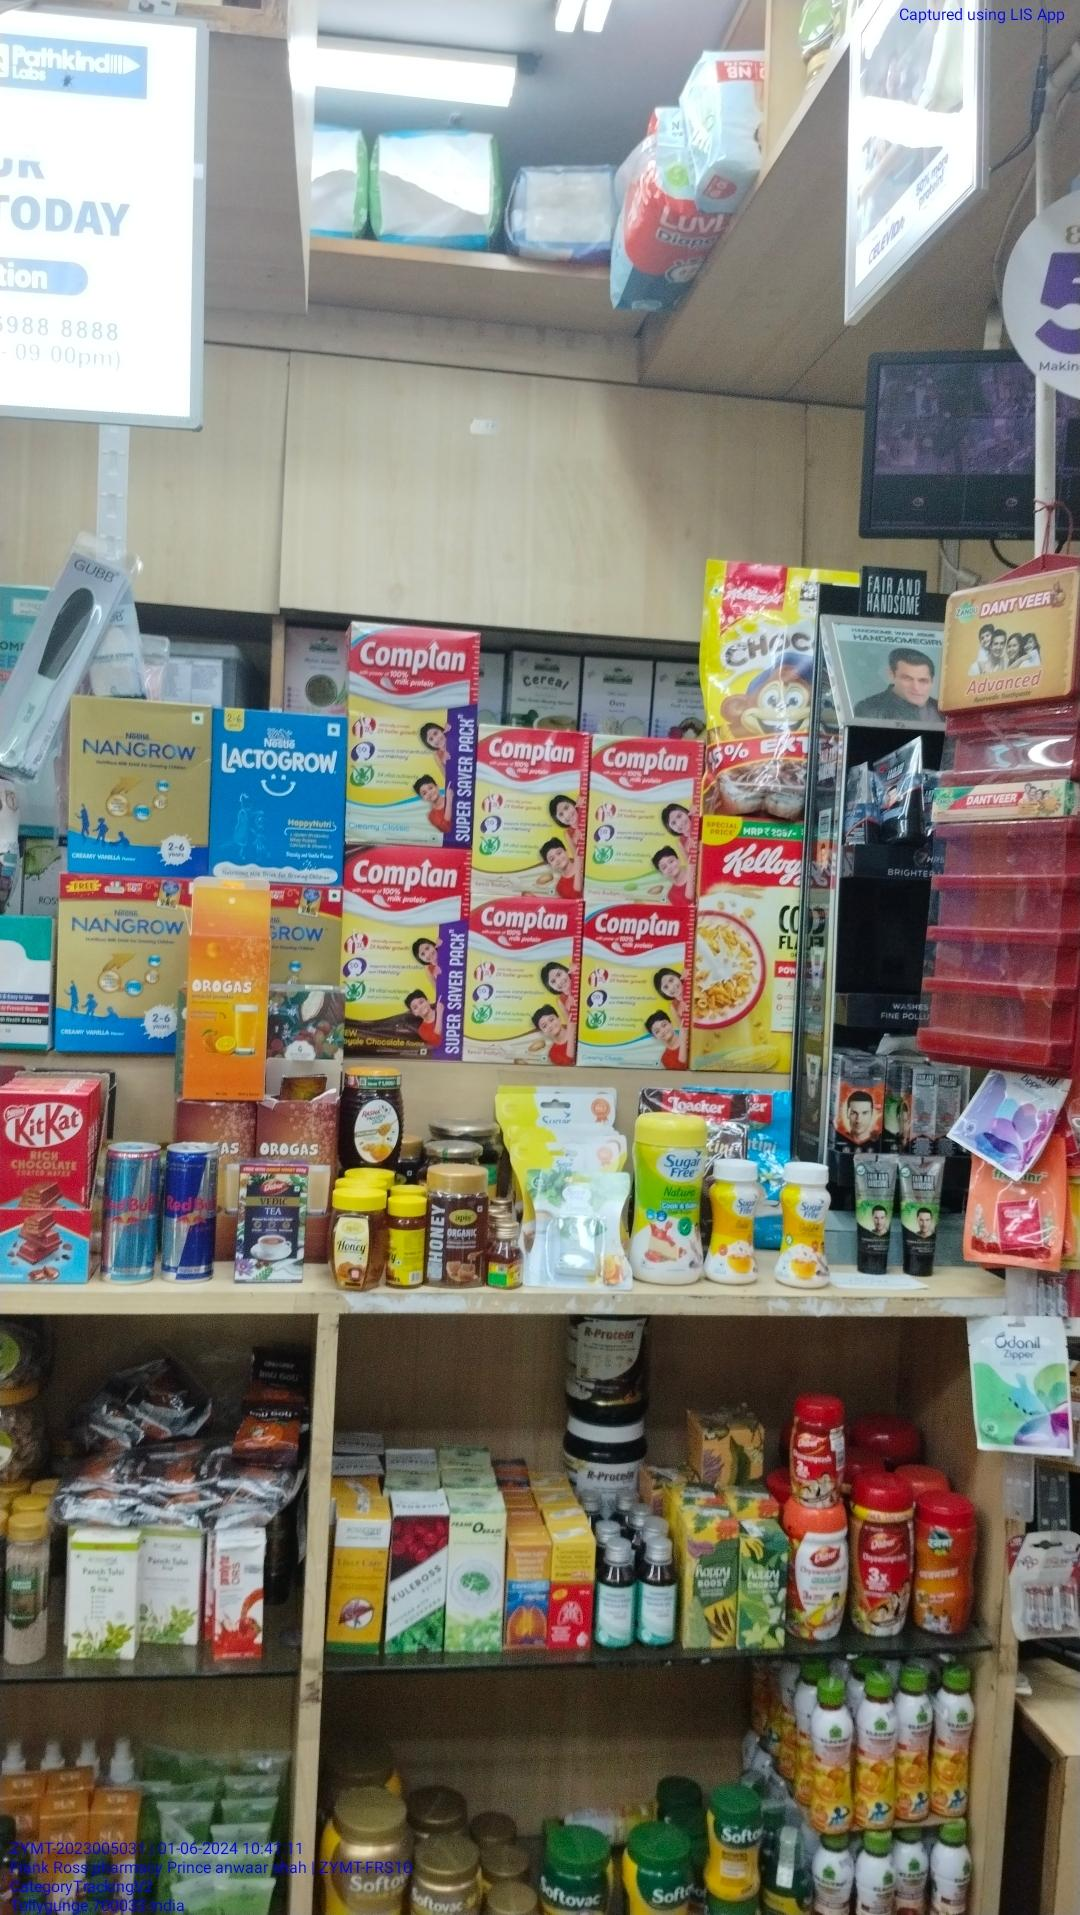COMPLAN_CHOCOLATE_1_KG_PACK: (345, 846, 460, 1057)
COMPLAN_CREAMY_CLASSIC_500_G_PACK: (587, 901, 687, 1067)
COMPLAN_KESAR_BADAM_500_GMS_PACK: (471, 898, 577, 1064), (478, 726, 581, 896)
COMPLAN_PISTA_BADAM_500_GMS_PACK: (589, 735, 699, 898)
